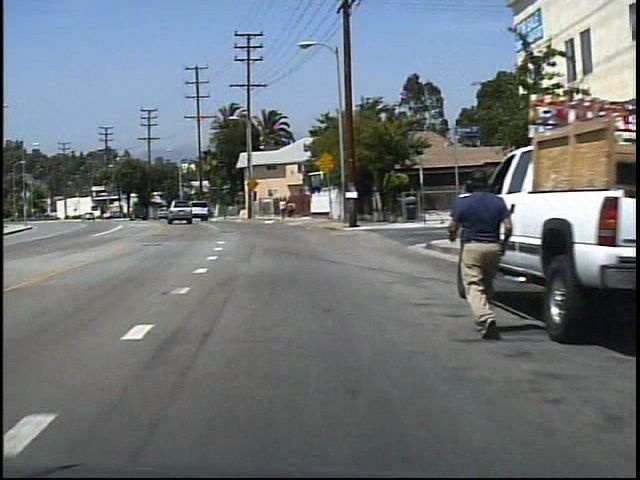person: (441, 164, 507, 340), (277, 196, 287, 220), (286, 198, 296, 220)
